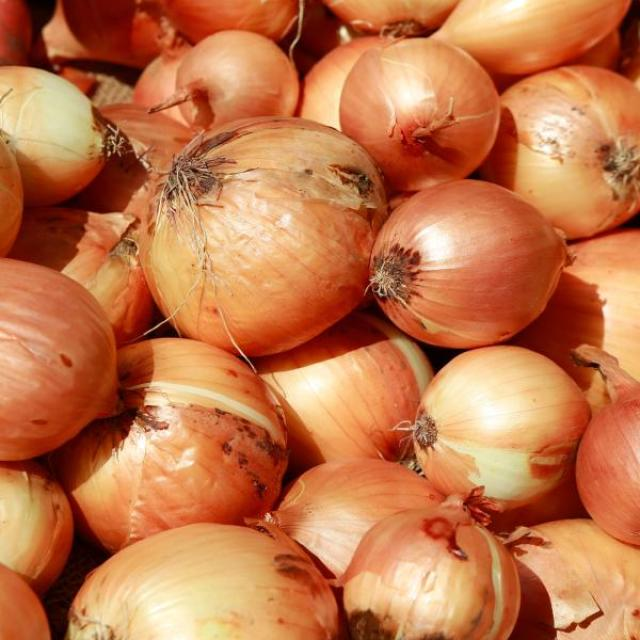Onion: (44, 336, 332, 538), (139, 120, 374, 338), (341, 176, 573, 338), (69, 541, 363, 640), (320, 42, 512, 190), (341, 498, 534, 640), (471, 60, 640, 211), (0, 267, 128, 464), (412, 346, 567, 479), (0, 78, 136, 198), (579, 374, 640, 526)
